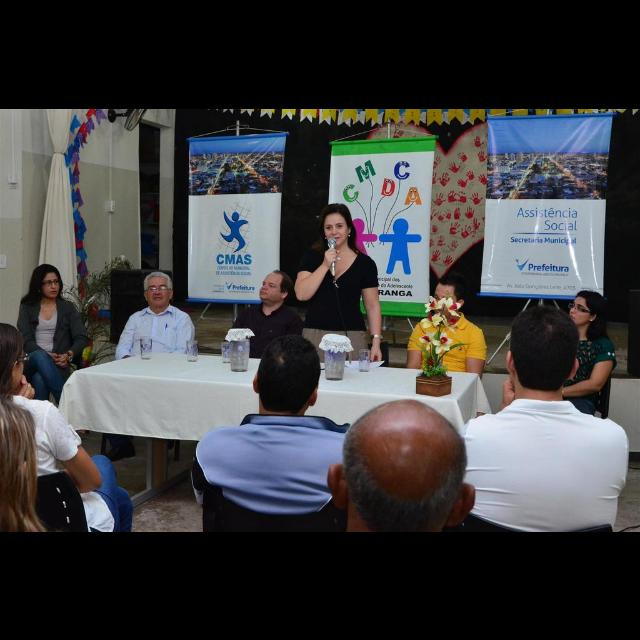Flower: (422, 296, 462, 316), (418, 310, 446, 330), (428, 332, 452, 354)
